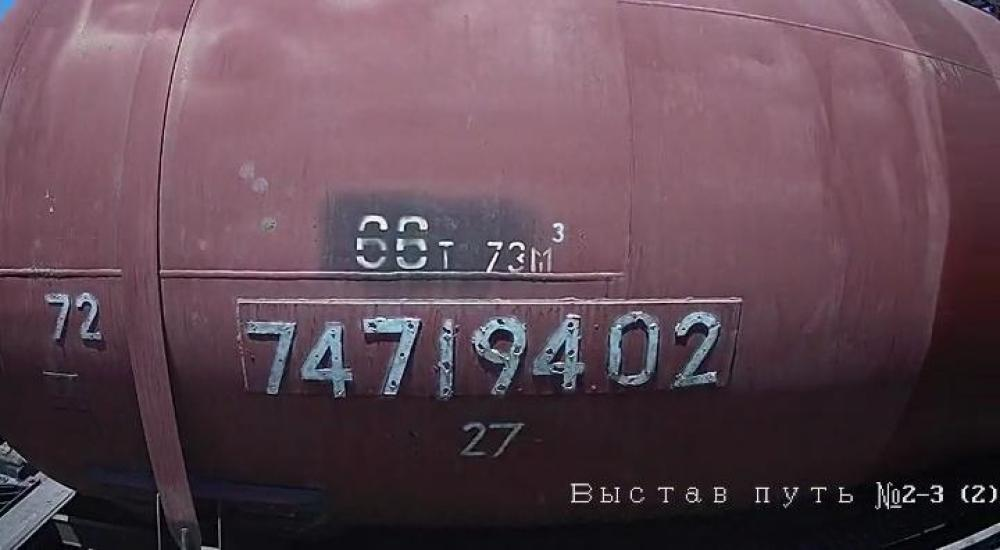Wagon-number: (242, 304, 729, 401)
